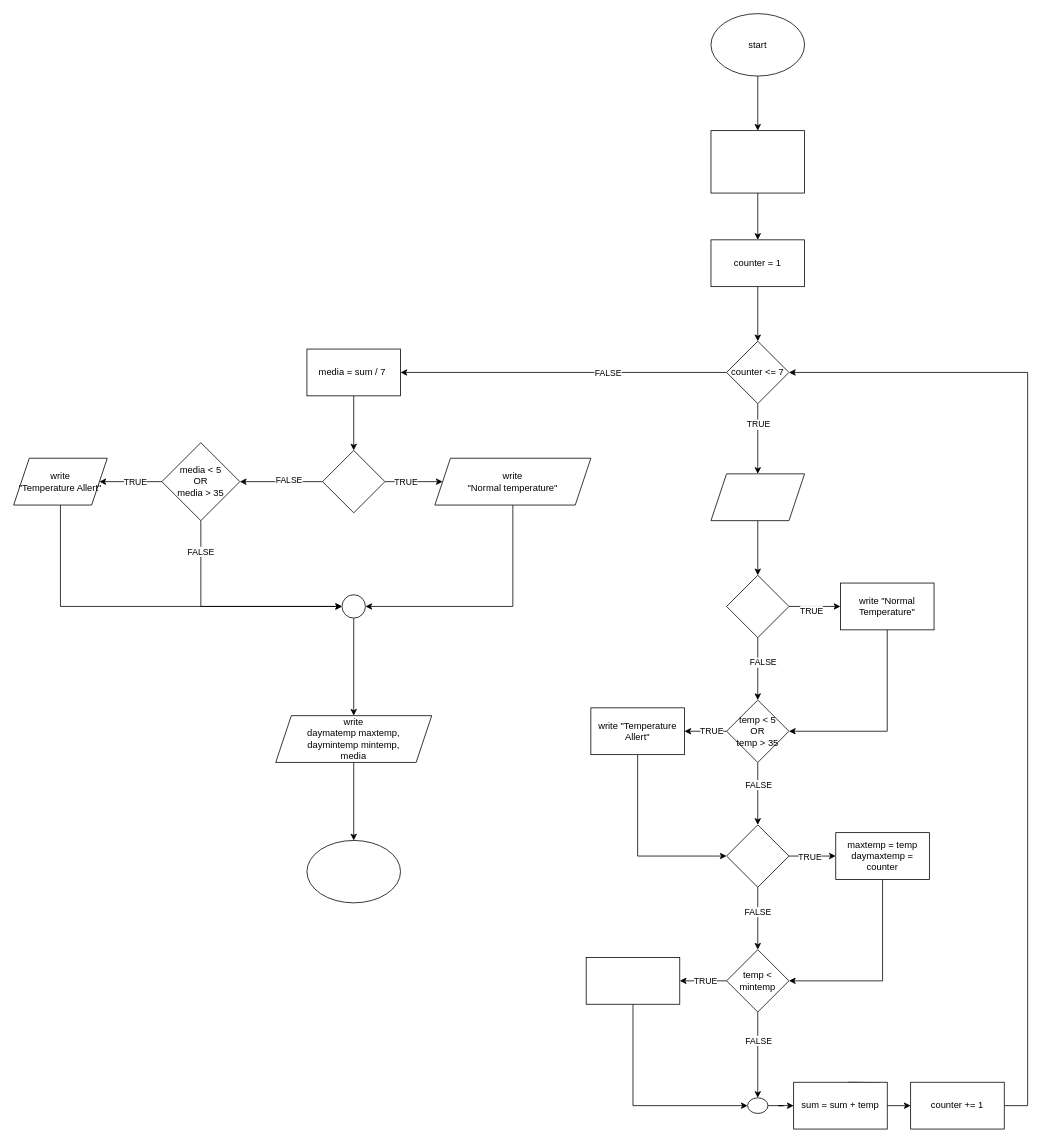
Some shapes in this 1048 by 1143 pixel diagram are drawn without their labels. Here are the shapes that lost their labels. From the top down, the box of each, then its label:
(710, 130, 805, 193): maxtemp = -10000, mintemp = 10000, daymaxtemp = 0, daymintemp = 0 sum = 0
(322, 450, 385, 513): 10 < media < 35
(710, 473, 805, 521): read temp
(726, 574, 789, 638): 10 < temp <30
(306, 840, 401, 903): end
(726, 824, 789, 887): temp > maxtemp
(585, 957, 680, 1004): mintemp = 0 daymintemp = counter
